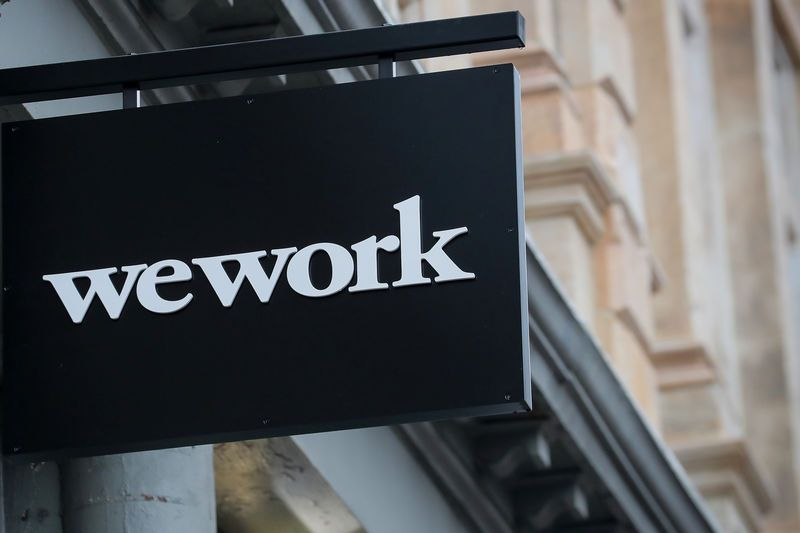wework: (38, 189, 483, 327)
